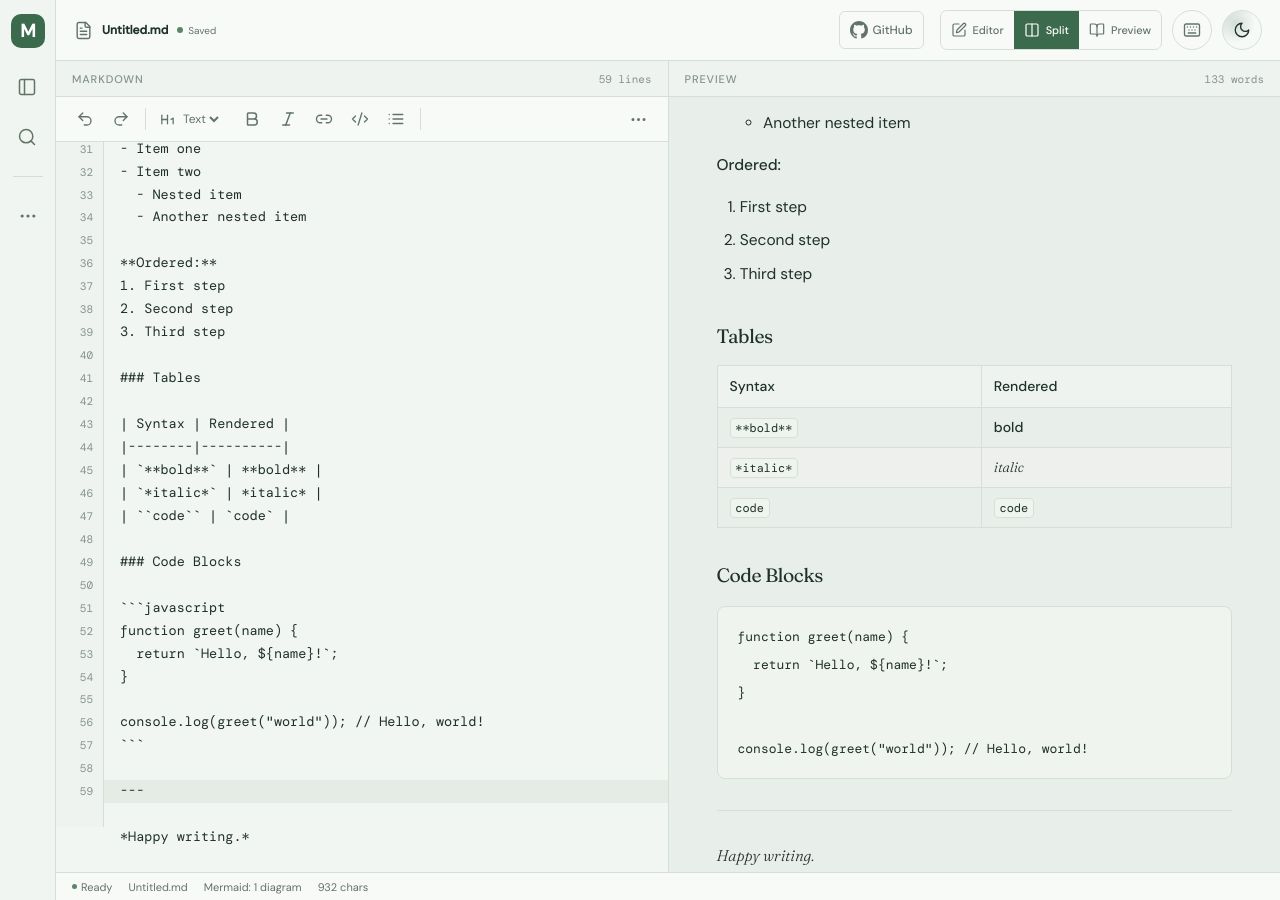
Test case: Markdown Studio responsive shell › opens a markdown file when the browser file input change arrives after focus returns
(page scrolled)
Click the button named "Document actions" at (28, 216), box [7, 195, 49, 237]
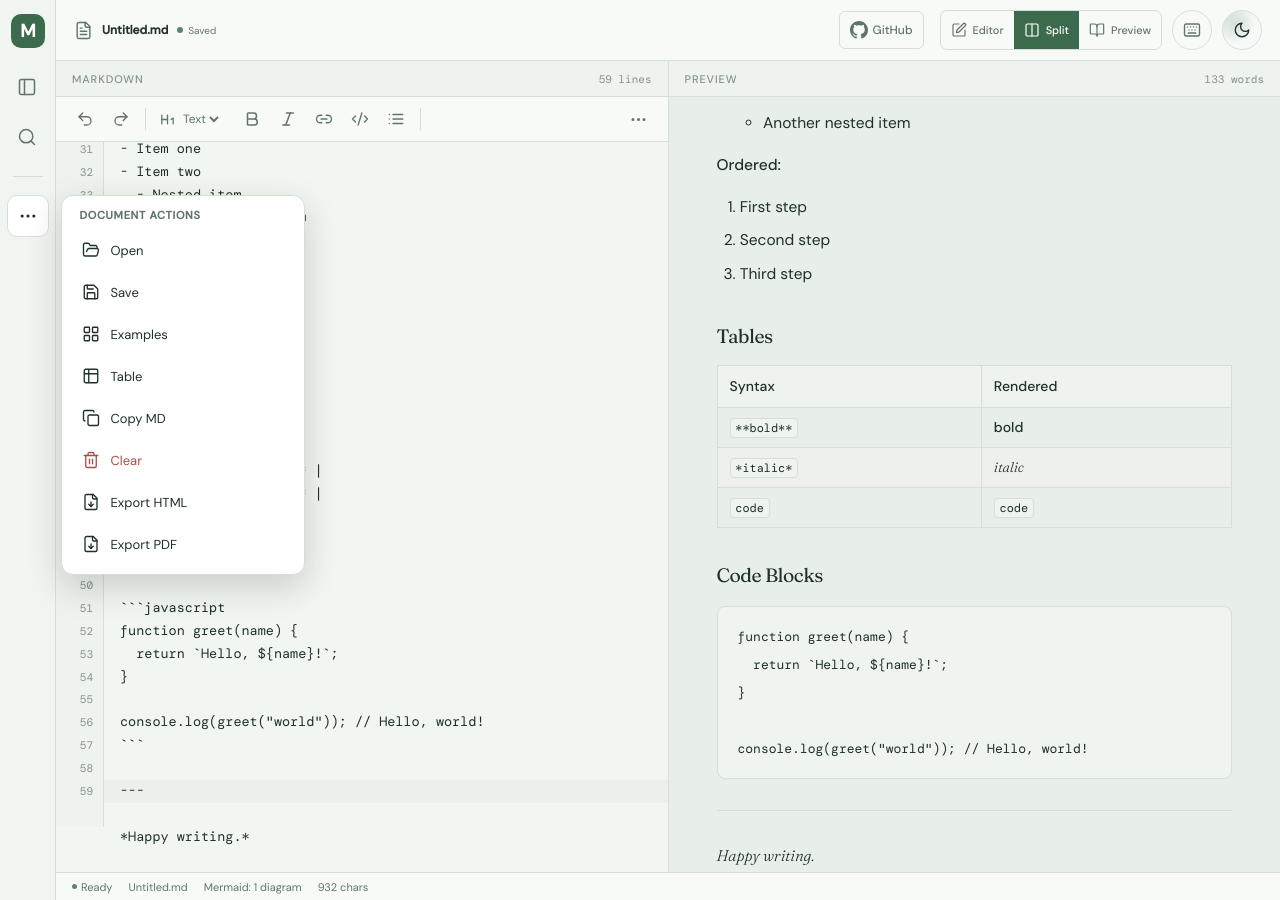
Click the button with aria-label "Open document" at (183, 250), box [72, 230, 294, 270]
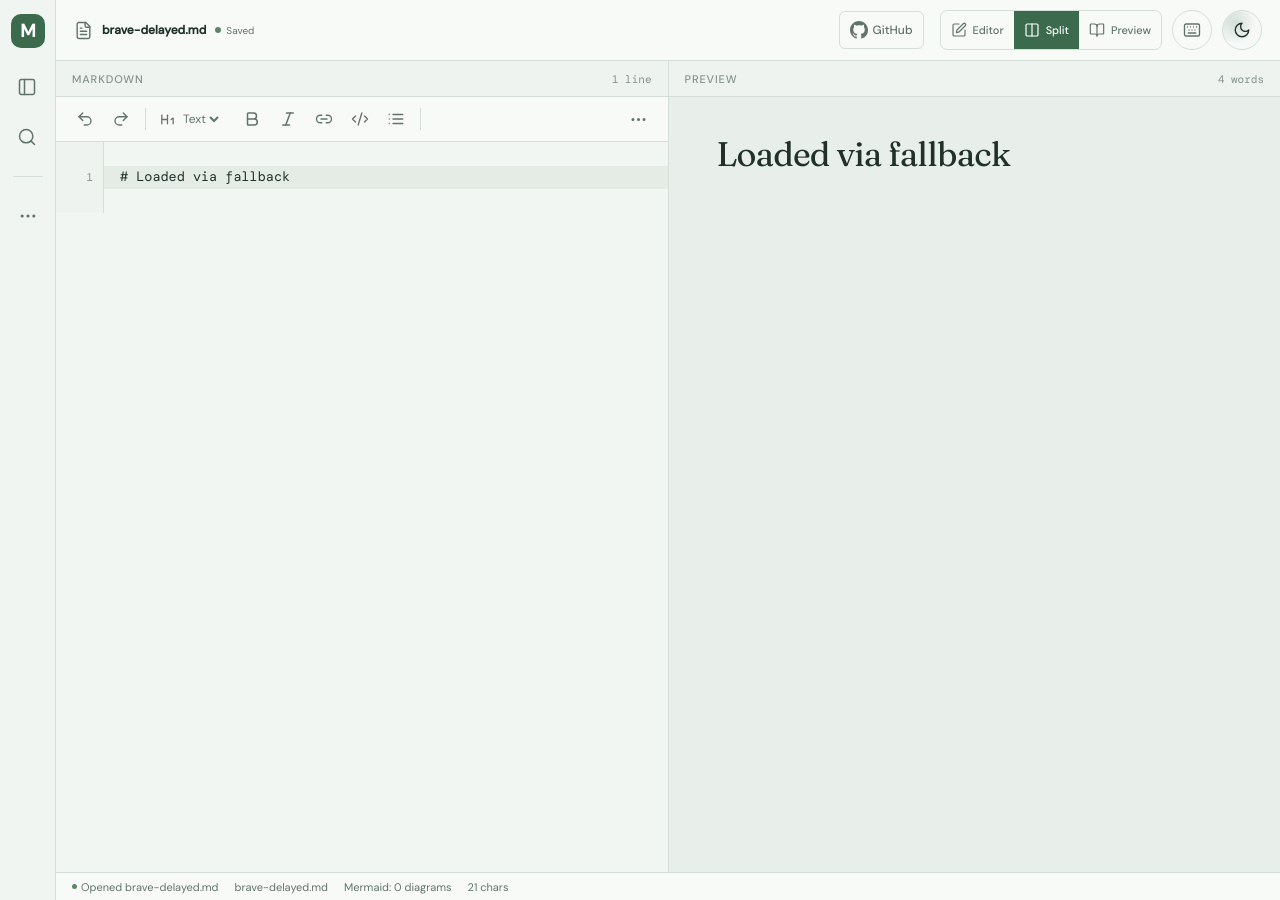
Expected: the text box holds "# Loaded via fallback", [56, 142, 668, 872]
Expected: the text with class "status-item--document" reads "brave-delayed.md", [235, 880, 329, 894]
Expected: the element with class "status-bar" reads "Opened brave-delayed.md", [81, 880, 219, 894]
